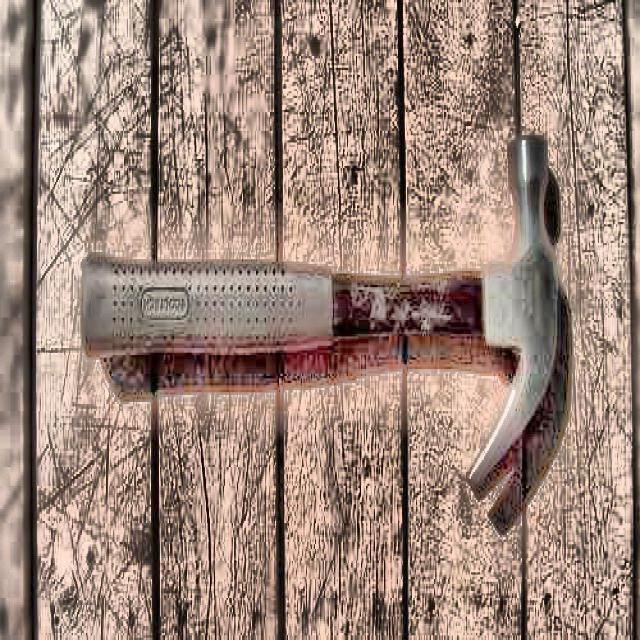hammer: (82, 134, 560, 494)
